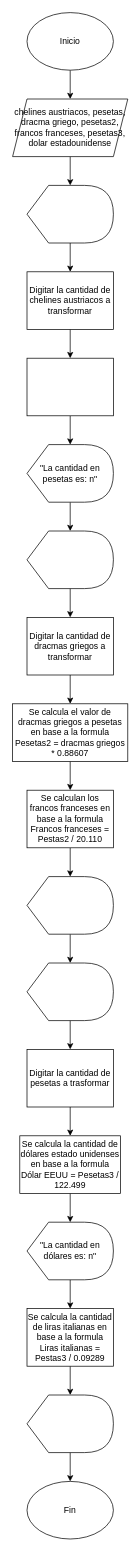
Image size: 140x1552. Some labels were removed from this diagram. Each missing label, with the centre of its shape:
"Ingresa la cantidad de chelines austriacos": (x=69, y=214)
"Ingresa la cantidad de pesetas": (x=69, y=991)
"Ingrese la cantidad de dracmas griegos": (x=69, y=559)
"La cantidad de liras italianas es: n": (x=69, y=1423)
"La cantidad en francos franceses es: n": (x=69, y=905)
Se realiza el calculo en base a la formula Peseta = chelin austriaco * 9.56871: (x=69, y=386)
